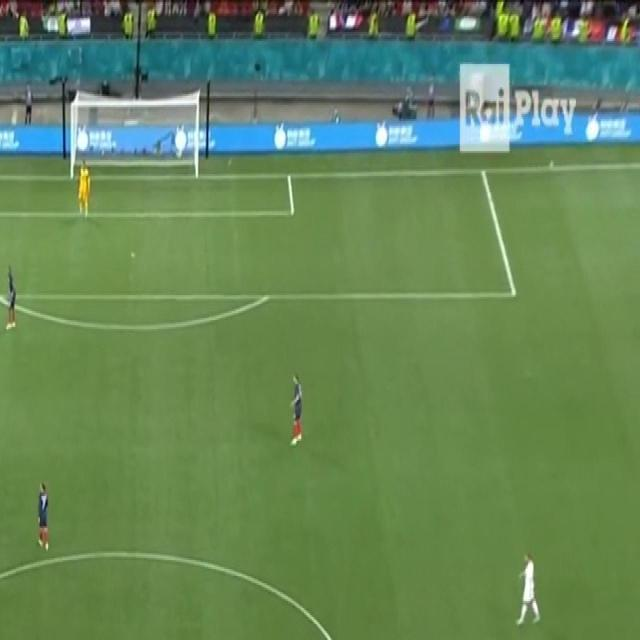player-white: (514, 547, 544, 633), (287, 368, 305, 450), (34, 477, 52, 554), (76, 158, 92, 223), (3, 262, 17, 335)
